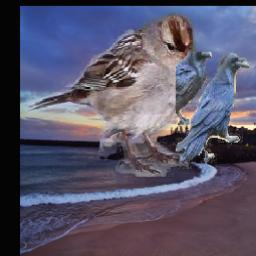Crow: (175, 53, 250, 165)
Sparrow: (25, 13, 204, 177)
